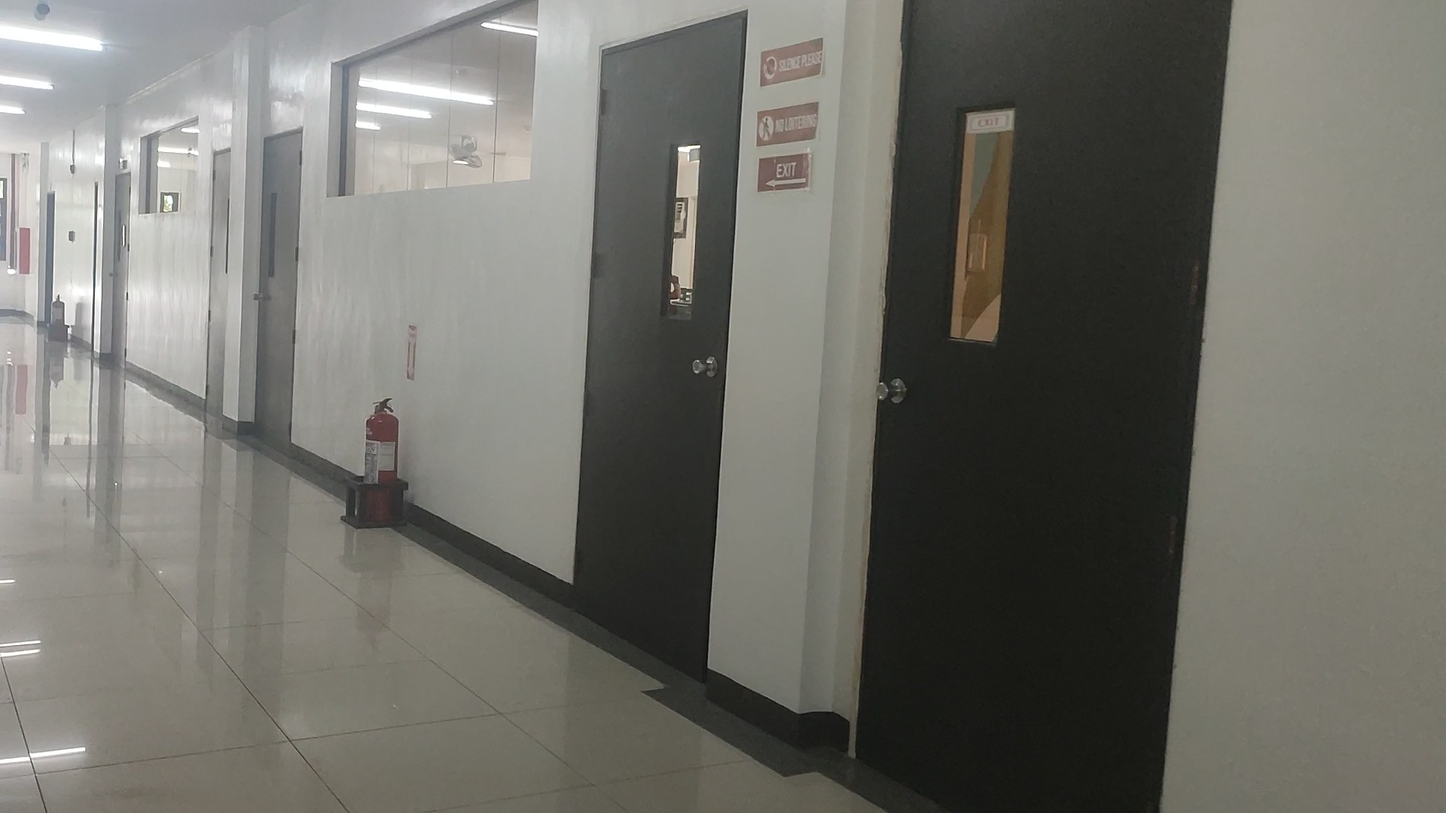door: (855, 0, 1232, 813), (573, 13, 747, 684)
